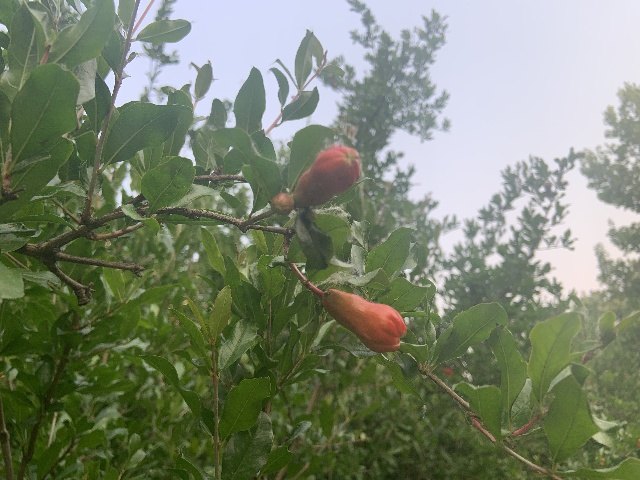bud: (322, 288, 406, 353), (292, 145, 361, 206), (270, 192, 293, 215)
